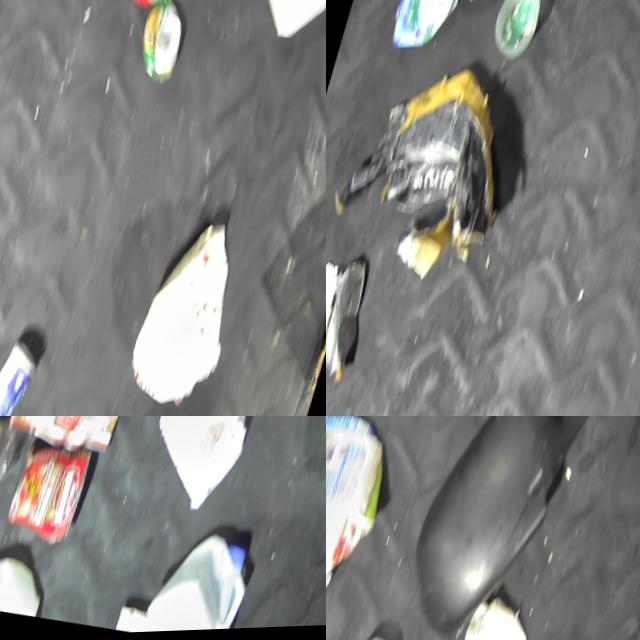can: (12, 439, 105, 549), (326, 256, 386, 383), (134, 0, 196, 89), (0, 334, 53, 416)
milk_jug: (139, 416, 285, 519), (155, 525, 274, 634), (0, 545, 66, 622)
plastic_bottle: (0, 416, 33, 500)
